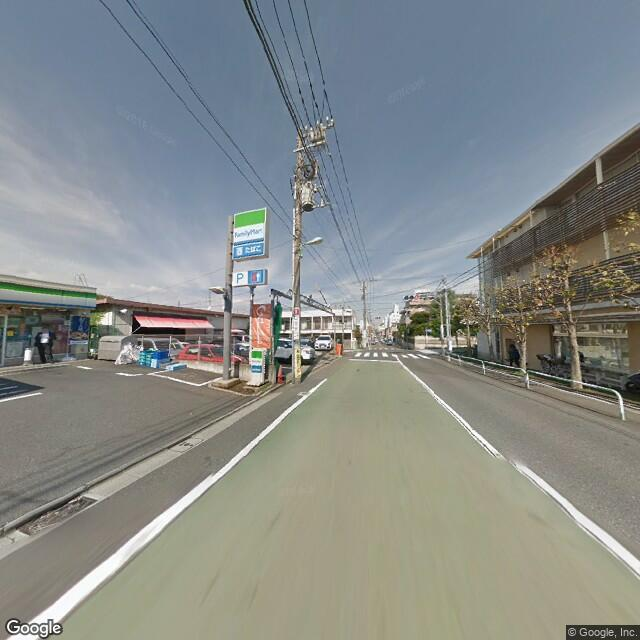family_mart: (2, 279, 97, 312), (230, 204, 270, 252), (249, 348, 265, 375)
